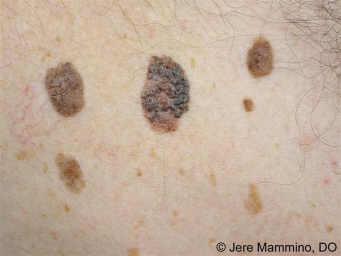seborrheic keratosis: (26, 20, 315, 222)
